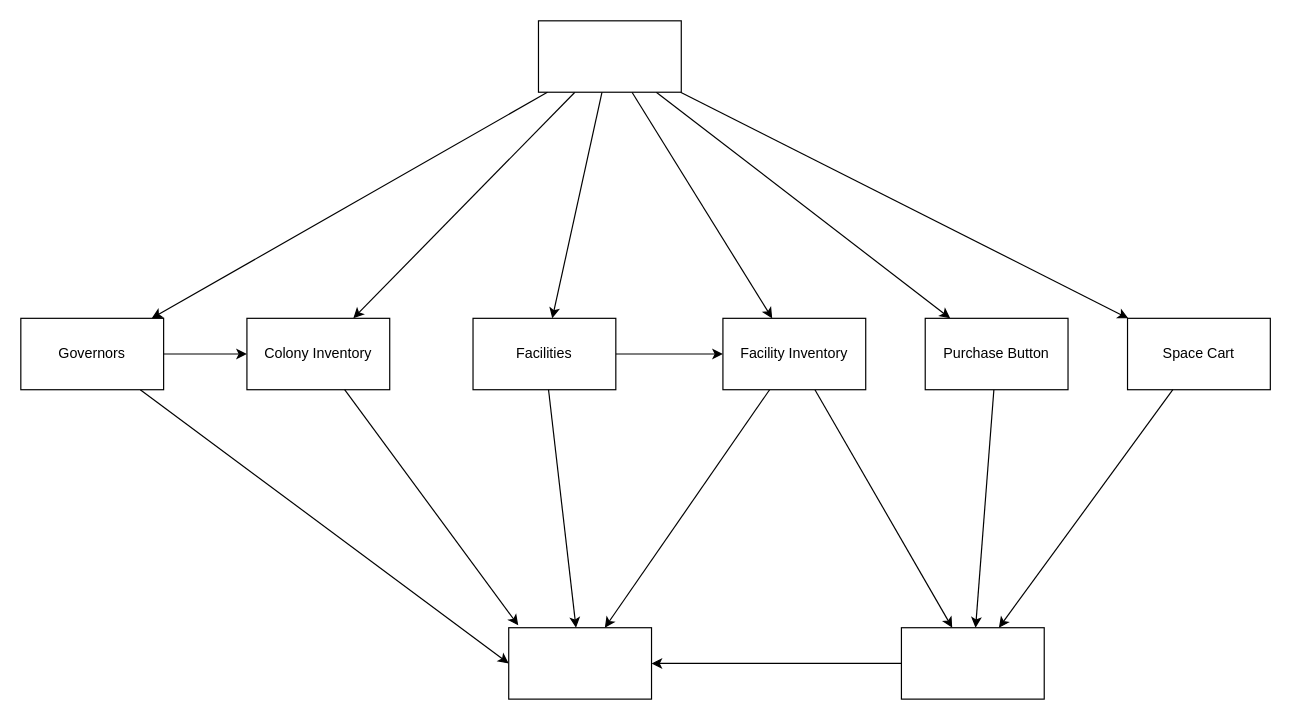
Some shapes in this 1291 by 720 pixel diagram are drawn without their labels. Here are the shapes that lost their labels. From the top down, the centre of each, then its label:
point (609, 56): Main
point (580, 663): Database
point (972, 663): Transient State
